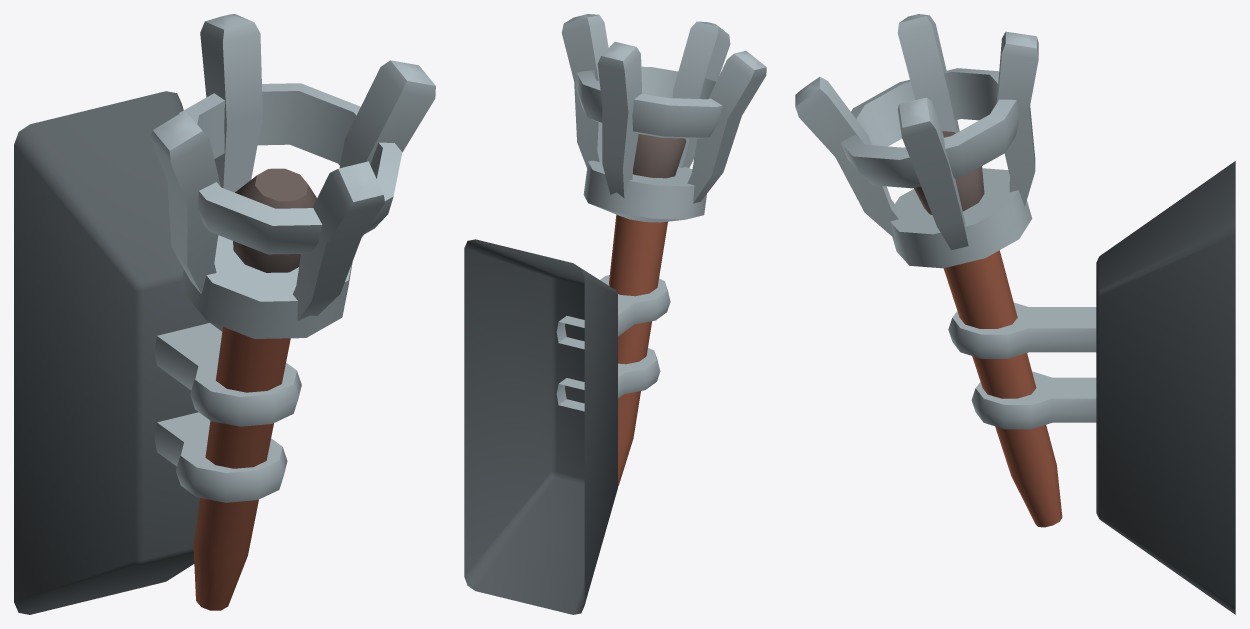
The model's file is torchWall.glb.
3 views of the same model, side by side, from view 1: azimuth 30°, elevation 25°; view 2: azimuth 150°, elevation 25°; view 3: azimuth 270°, elevation 25° (orthographic). The views are drawn at different scales.
Visible parts, largest first — view 1: torchWall; view 2: torchWall; view 3: torchWall.
Boxes of the visible parts, x1,y1,x2,y2 form: torchWall: (14,14,435,614); torchWall: (464,14,766,614); torchWall: (795,14,1235,614).
Size of the model in its own units: 0.1126 by 0.2743 by 0.1983.
